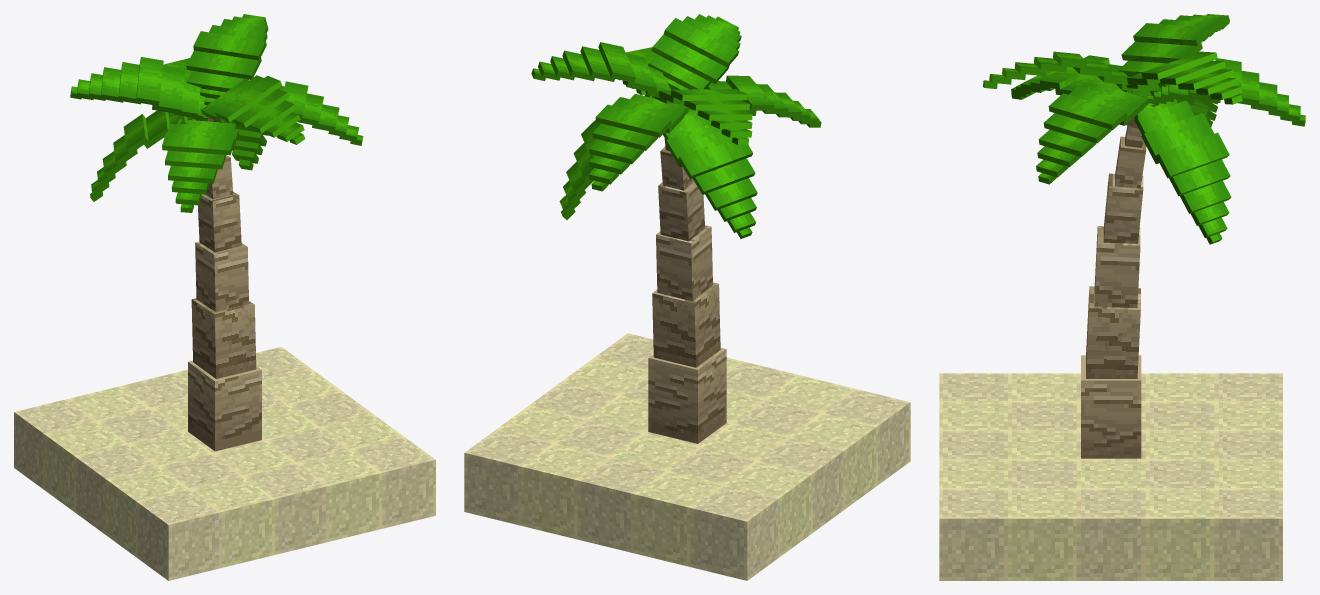
File: palm_tree.glb
3 renders of one model, left to right at view 1: azimuth 30°, elevation 25°; view 2: azimuth 150°, elevation 25°; view 3: azimuth 270°, elevation 25°, orthographic. The views are drawn at different scales.
Parts seen in each view (by area): view 1: cube_21, cube_27, cube_16, cube_10, cube_17, cube_9, cube_26, cube_8, cube_20, cube_22, cube_5, cube_28 (+35 smaller); view 2: cube_22, cube_27, cube_11, cube_6, cube_14, cube_7, cube_26, cube_20, cube_5, cube_21, cube_8, cube_28 (+32 smaller); view 3: cube_12, cube_13, cube_14, cube_15, cube_16, cube_27, cube_26, cube_28, cube_30, cube_4, cube_2, cube_5 (+37 smaller).
Boxes of the visible parts, left/top/right/bottom form: cube_21: left=137, top=489, right=221, bottom=580; cube_27: left=188, top=360, right=261, bottom=451; cube_16: left=352, top=437, right=435, bottom=528; cube_10: left=298, top=450, right=382, bottom=541; cube_17: left=245, top=463, right=328, bottom=554; cube_9: left=191, top=476, right=275, bottom=567; cube_26: left=191, top=298, right=256, bottom=378; cube_8: left=106, top=467, right=190, bottom=557; cube_20: left=76, top=444, right=159, bottom=535; cube_22: left=14, top=399, right=97, bottom=490; cube_5: left=45, top=421, right=128, bottom=512; cube_28: left=195, top=241, right=248, bottom=311; cube_22: left=690, top=484, right=779, bottom=580; cube_27: left=648, top=348, right=726, bottom=443; cube_11: left=577, top=456, right=666, bottom=553; cube_6: left=634, top=470, right=722, bottom=566; cube_14: left=464, top=429, right=552, bottom=525; cube_7: left=521, top=442, right=609, bottom=539; cube_26: left=652, top=282, right=720, bottom=367; cube_20: left=756, top=436, right=845, bottom=532; cube_5: left=724, top=460, right=812, bottom=556; cube_21: left=821, top=388, right=910, bottom=484; cube_8: left=789, top=412, right=877, bottom=508; cube_28: left=656, top=225, right=712, bottom=301; cube_12: left=1076, top=489, right=1145, bottom=580; cube_13: left=1145, top=489, right=1214, bottom=580; cube_14: left=1214, top=489, right=1282, bottom=580; cube_15: left=1008, top=489, right=1076, bottom=580; cube_16: left=939, top=489, right=1007, bottom=580; cube_27: left=1081, top=355, right=1141, bottom=458; cube_26: left=1086, top=286, right=1140, bottom=378; cube_28: left=1094, top=226, right=1140, bottom=308; cube_30: left=1103, top=173, right=1143, bottom=243; cube_4: left=1145, top=431, right=1214, bottom=460; cube_2: left=1076, top=460, right=1145, bottom=489; cube_5: left=1145, top=373, right=1214, bottom=402.
Bounding box in the file's own units: 5 × 7.51 × 5.33.
4 materials, 4 textured.
